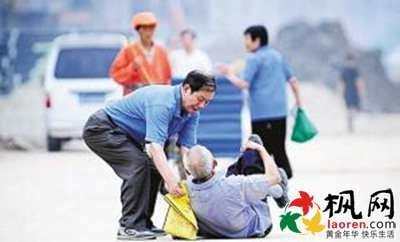falling: (167, 130, 306, 238)
